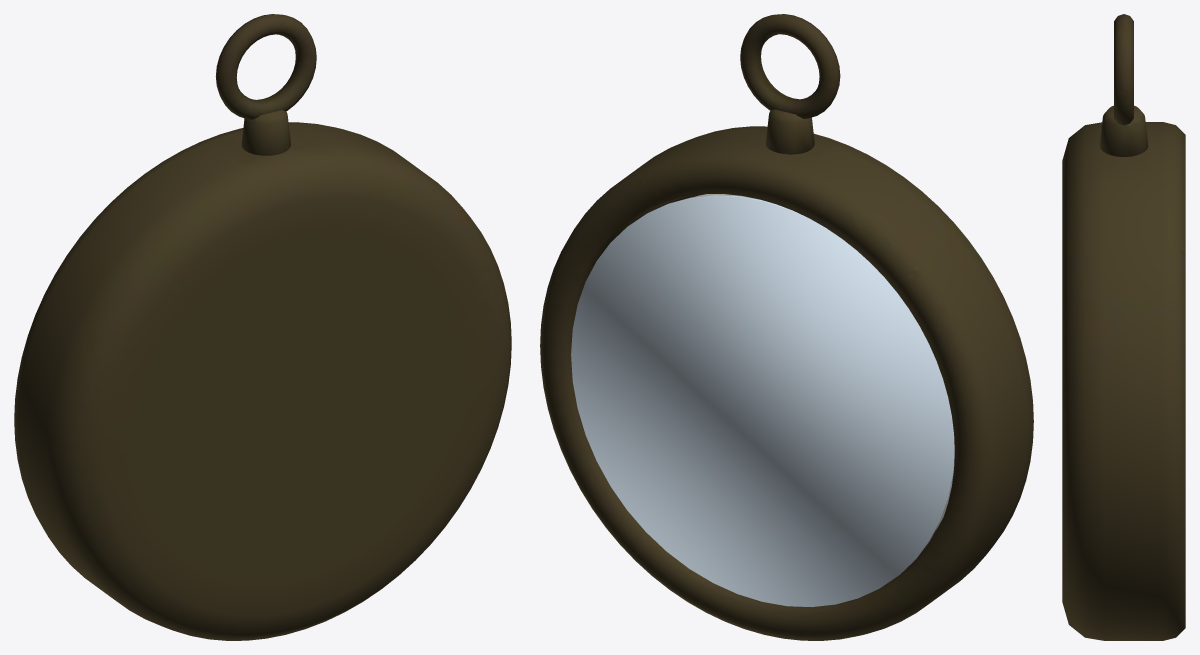
Rendered from tool_compass.glb.
The picture shows the model from 3 angles, left to right: view 1: azimuth 30°, elevation 25°; view 2: azimuth 150°, elevation 25°; view 3: azimuth 270°, elevation 25°; orthographic projection.
Visible parts, largest first — view 1: compass-body; view 2: compass-glass, compass-body; view 3: compass-body.
Boxes of the visible parts, <box> form: compass-body: <box>14,14,511,640</box>; compass-glass: <box>571,195,954,606</box>; compass-body: <box>540,14,1033,640</box>; compass-body: <box>1062,14,1185,640</box>.
Size of what is drawn, in the model's own units: 0.16 by 0.2032 by 0.038.
2 materials, 1 textured.
